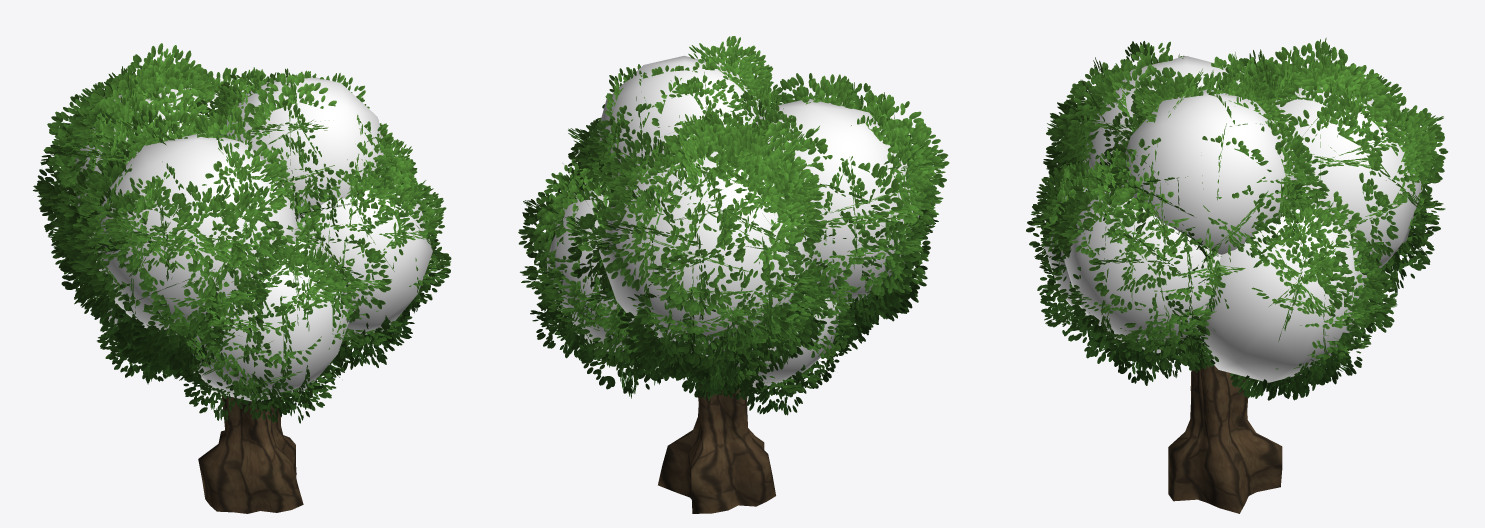
File: zz_maple.gltf
The picture shows the model from 3 angles, left to right: view 1: azimuth 30°, elevation 25°; view 2: azimuth 150°, elevation 25°; view 3: azimuth 270°, elevation 25°; orthographic projection.
Parts seen in each view (by area): view 1: zz_maple_leaves_LOD0, zz_maple_shadow_LOD0, zz_maple_trunk_LOD0; view 2: zz_maple_leaves_LOD0, zz_maple_shadow_LOD0, zz_maple_trunk_LOD0; view 3: zz_maple_leaves_LOD0, zz_maple_shadow_LOD0, zz_maple_trunk_LOD0.
Boxes of the visible parts, x1,y1,x2,y2 form: zz_maple_leaves_LOD0: (33,43,451,423); zz_maple_shadow_LOD0: (67,74,432,401); zz_maple_trunk_LOD0: (198,395,303,513); zz_maple_leaves_LOD0: (518,36,949,415); zz_maple_shadow_LOD0: (545,55,919,387); zz_maple_trunk_LOD0: (658,383,775,513); zz_maple_leaves_LOD0: (1026,37,1448,400); zz_maple_shadow_LOD0: (1044,56,1422,382); zz_maple_trunk_LOD0: (1168,357,1282,513).
Size of what is drawn, in the model's own units: 10.43 by 11.25 by 10.69.
Materials: 3 (2 with a texture image).
